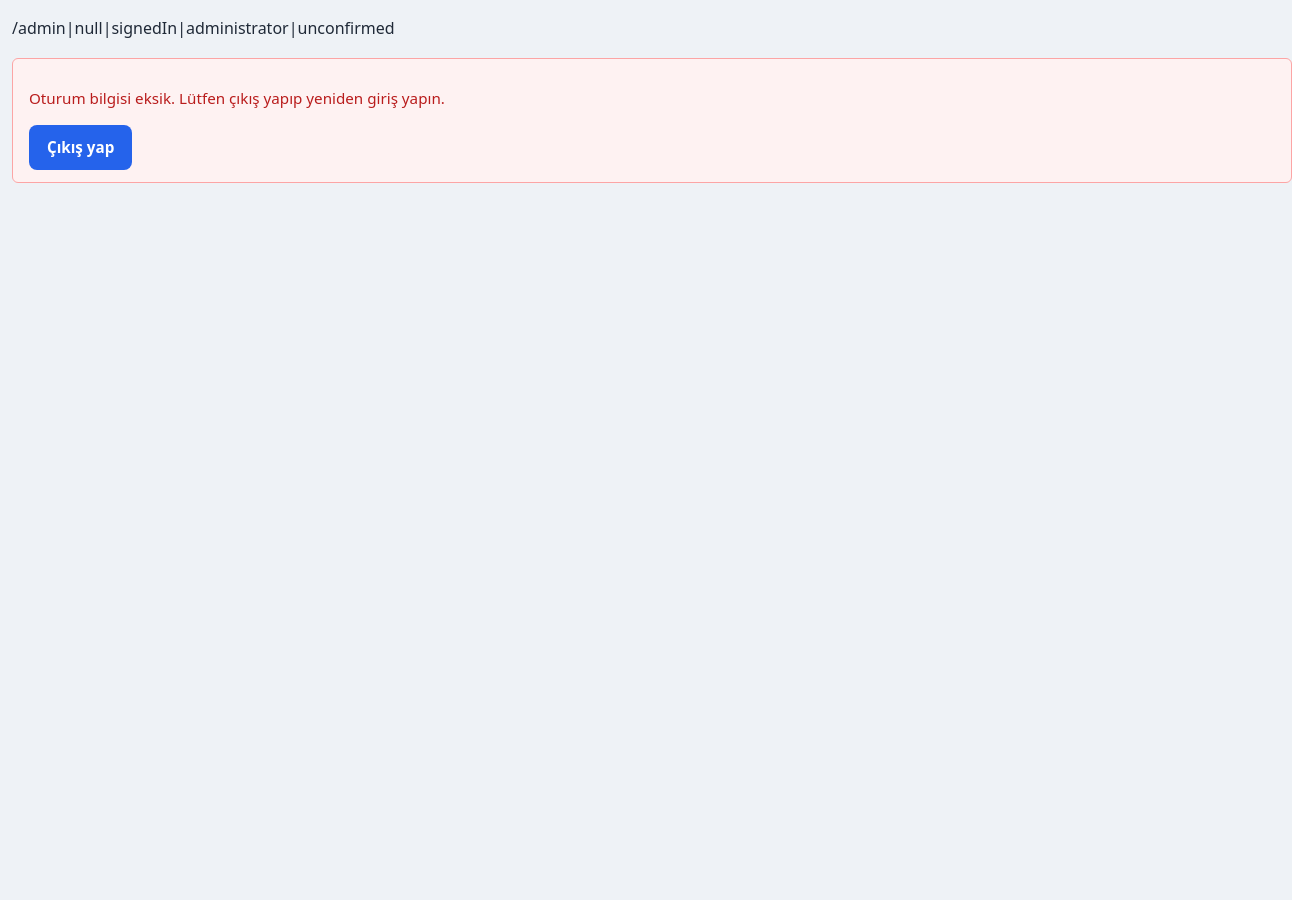
Test: role confirmation needs a session_id claim › logs out through the safe logout flow only when the button is pressed
expect the message shows "Oturum bilgisi eksik. Lütfen çıkış yapıp yeniden giriş yapın.": met, box [29, 88, 445, 108]
What coordinates should you click on to do the following:
click the button "Çıkış yap"
I would click on:
 (81, 147)
Its box is [29, 125, 132, 170].
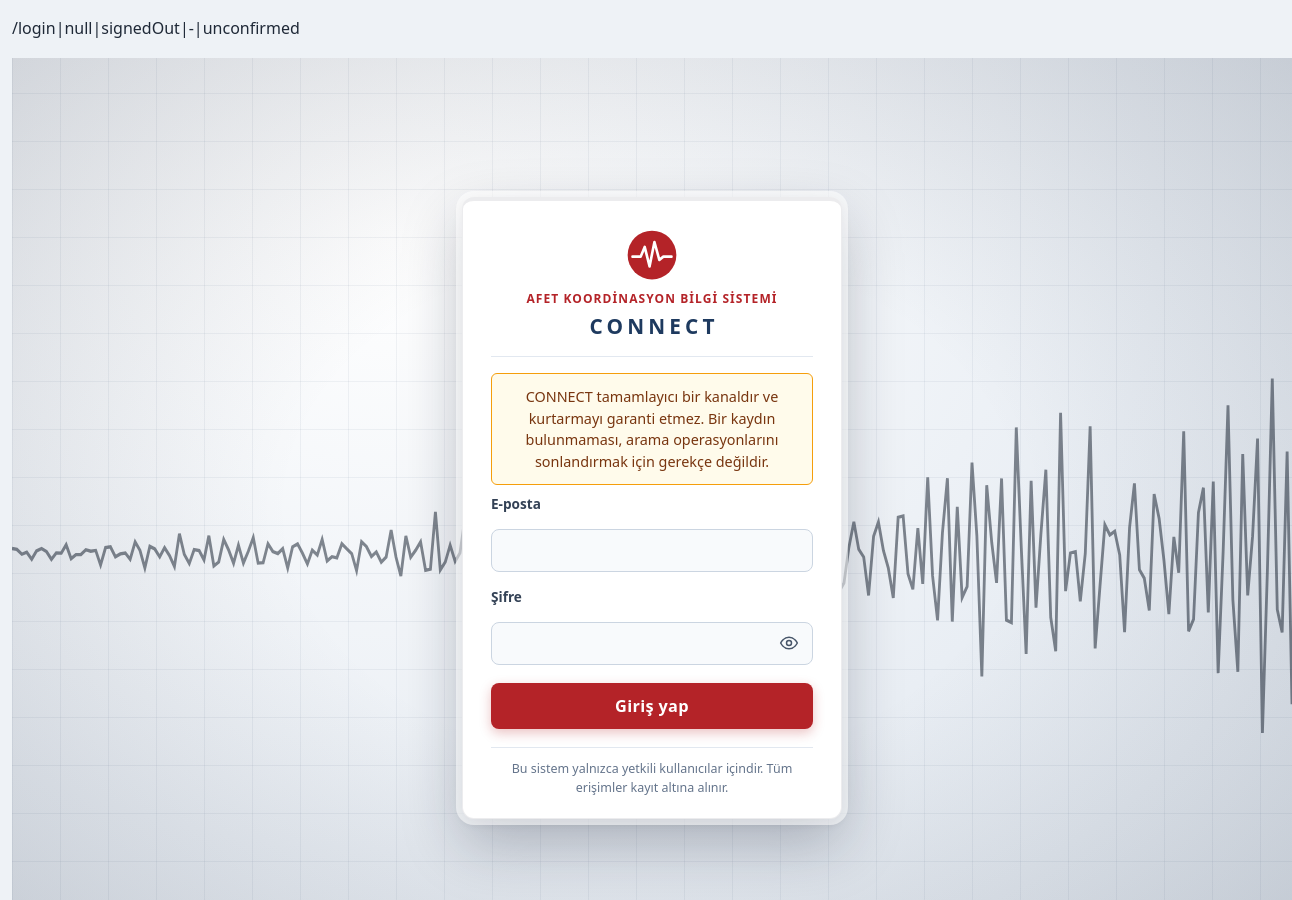
expect the text with test id "probe" shows "/login|": met, box [12, 17, 56, 39]
expect the heading "CONNECT" is shown: met, box [589, 312, 719, 340]
expect the text with test id "probe" shows "signedOut": met, box [101, 17, 180, 39]
